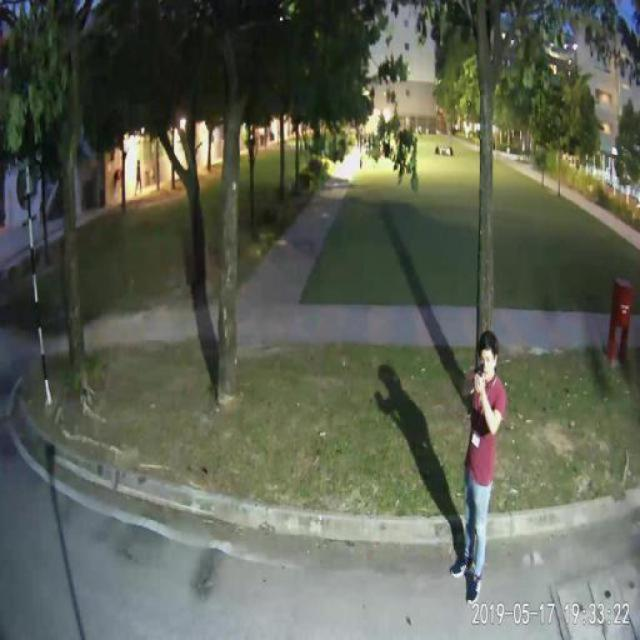pistol: (475, 361, 484, 389)
